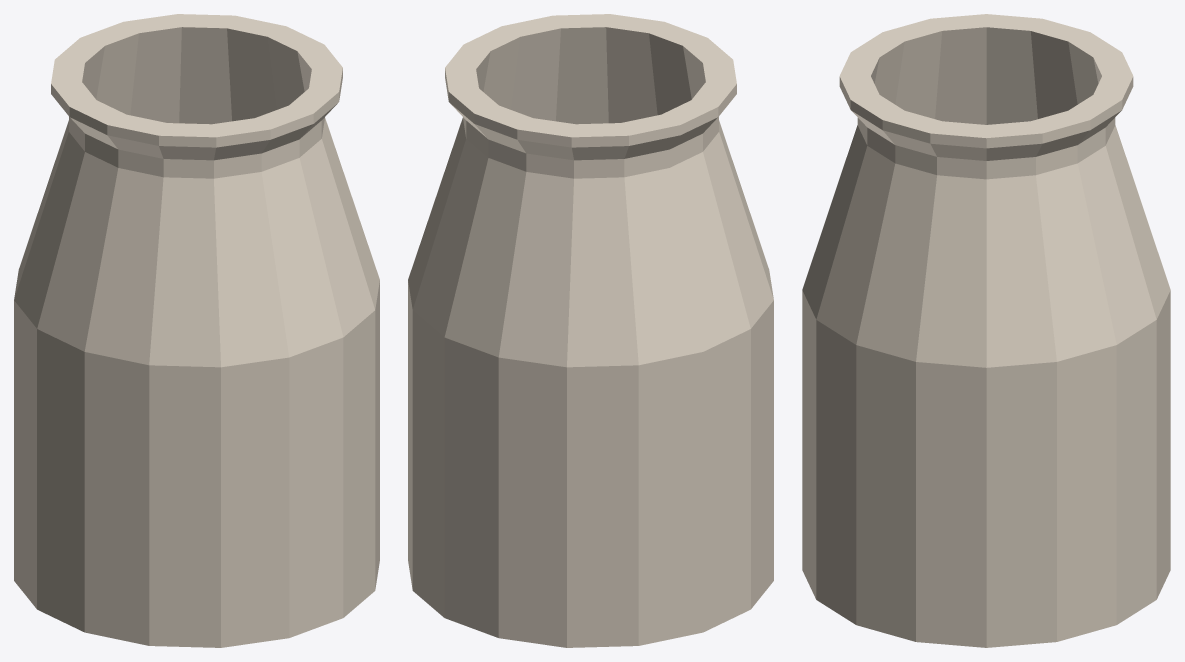
File: jar-phase4.glb
The picture shows the model from 3 angles, left to right: view 1: azimuth 30°, elevation 25°; view 2: azimuth 150°, elevation 25°; view 3: azimuth 270°, elevation 25°; orthographic projection.
Visible parts, largest first — view 1: Circle; view 2: Circle; view 3: Circle.
Boxes of the visible parts, x1,y1,x2,y2 form: Circle: (14,14,379,647); Circle: (408,14,773,647); Circle: (802,14,1170,647).
Bounding box in the file's own units: 2 × 2.96 × 2.
